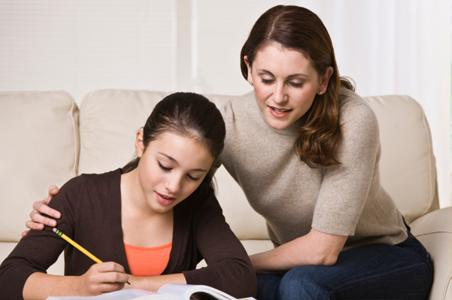person: (2, 92, 258, 300)
